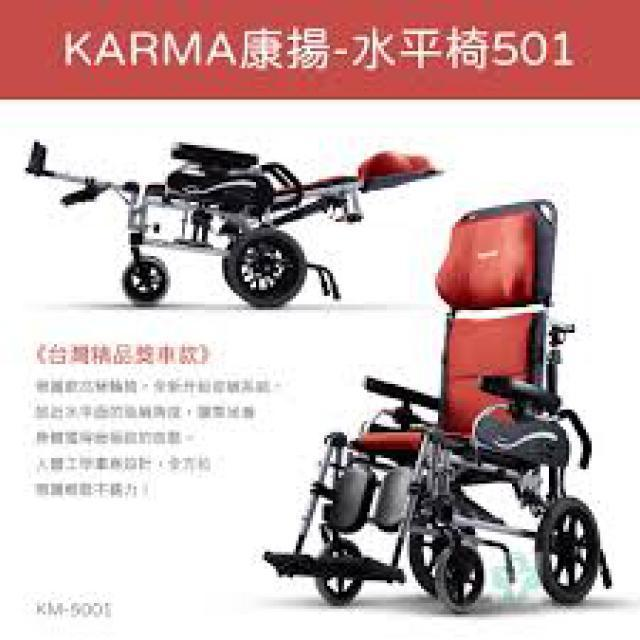wheelchairs: (288, 204, 604, 607), (25, 125, 448, 307)
